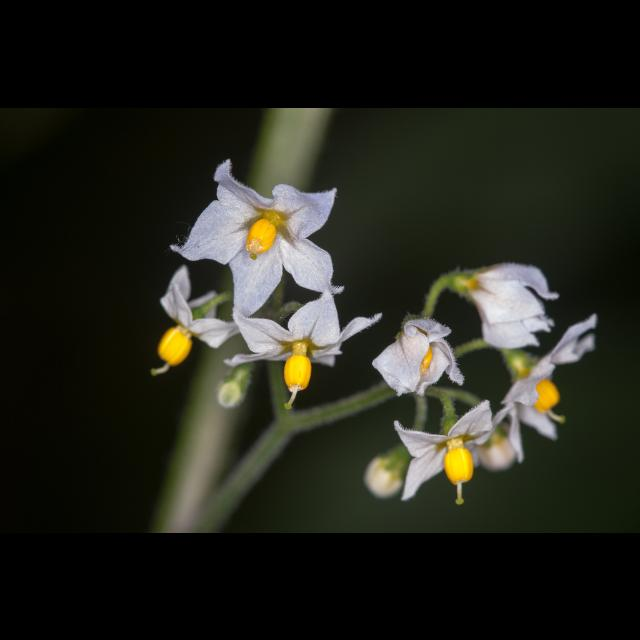Flower: (170, 162, 350, 276), (228, 282, 380, 408), (499, 314, 593, 460), (390, 398, 498, 506), (150, 266, 238, 378), (463, 262, 561, 348), (368, 314, 464, 396)
